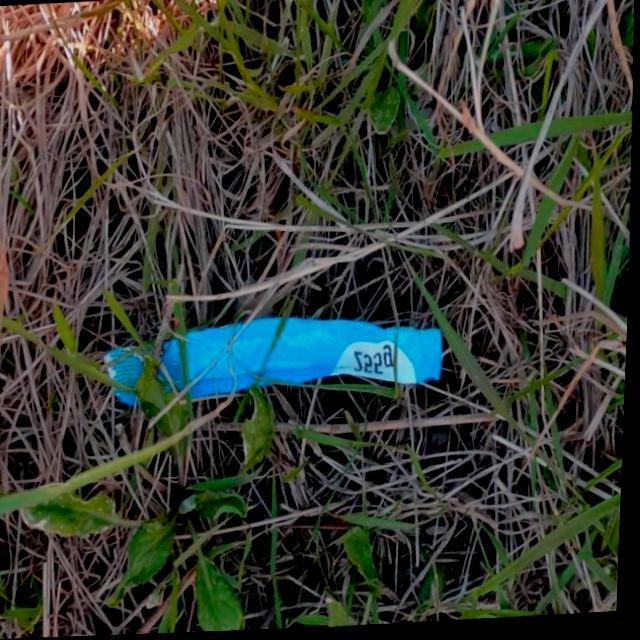Plastic: (103, 309, 449, 410)
